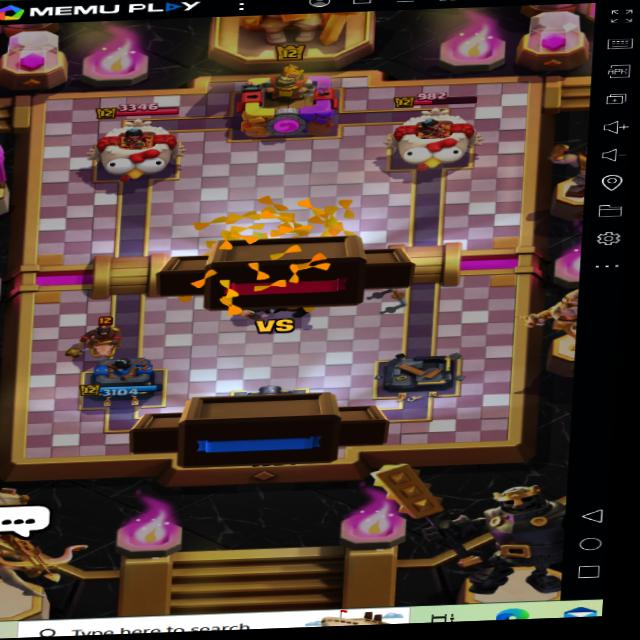hog-rider: (77, 307, 138, 365)
